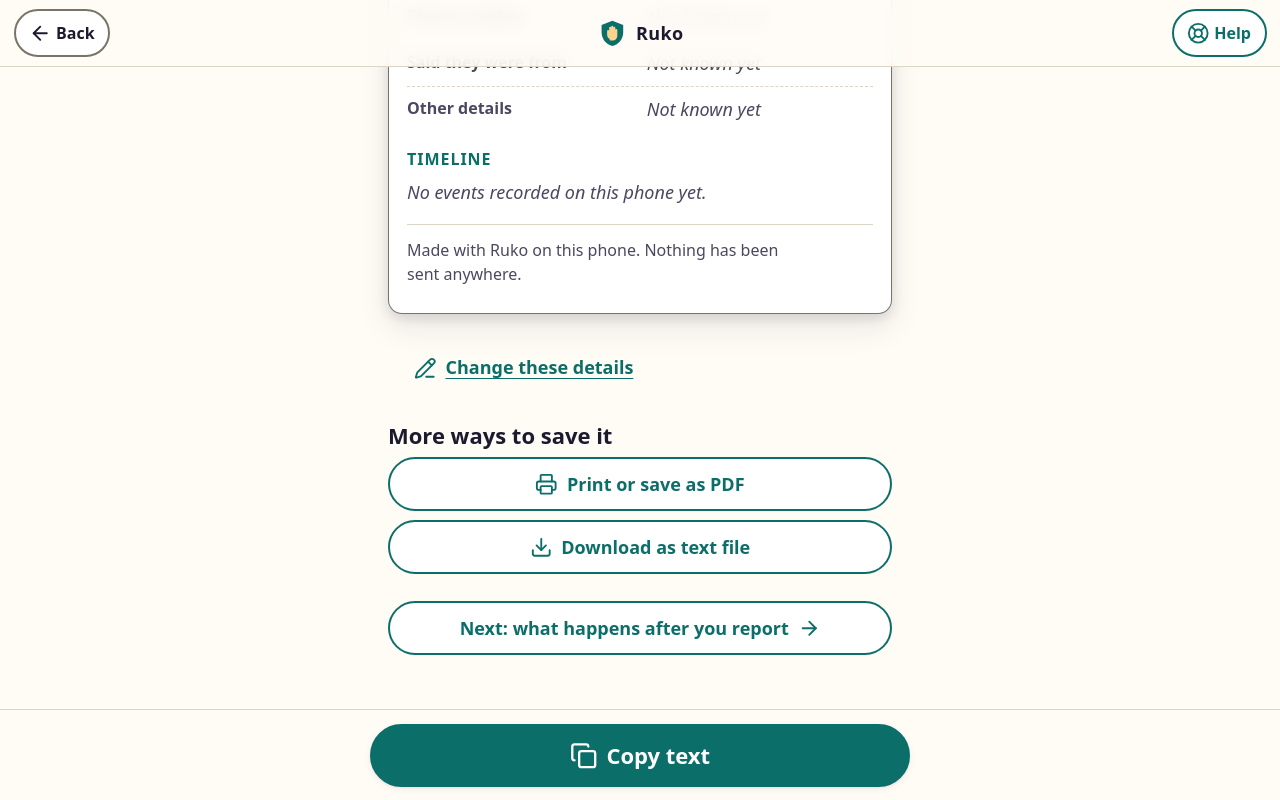
/golden-hour/pack — complaint pack › prints and downloads the pack
(page scrolled)
Step 1. Click the button "Print or save as PDF" → click(640, 484), box [388,457,892,511]
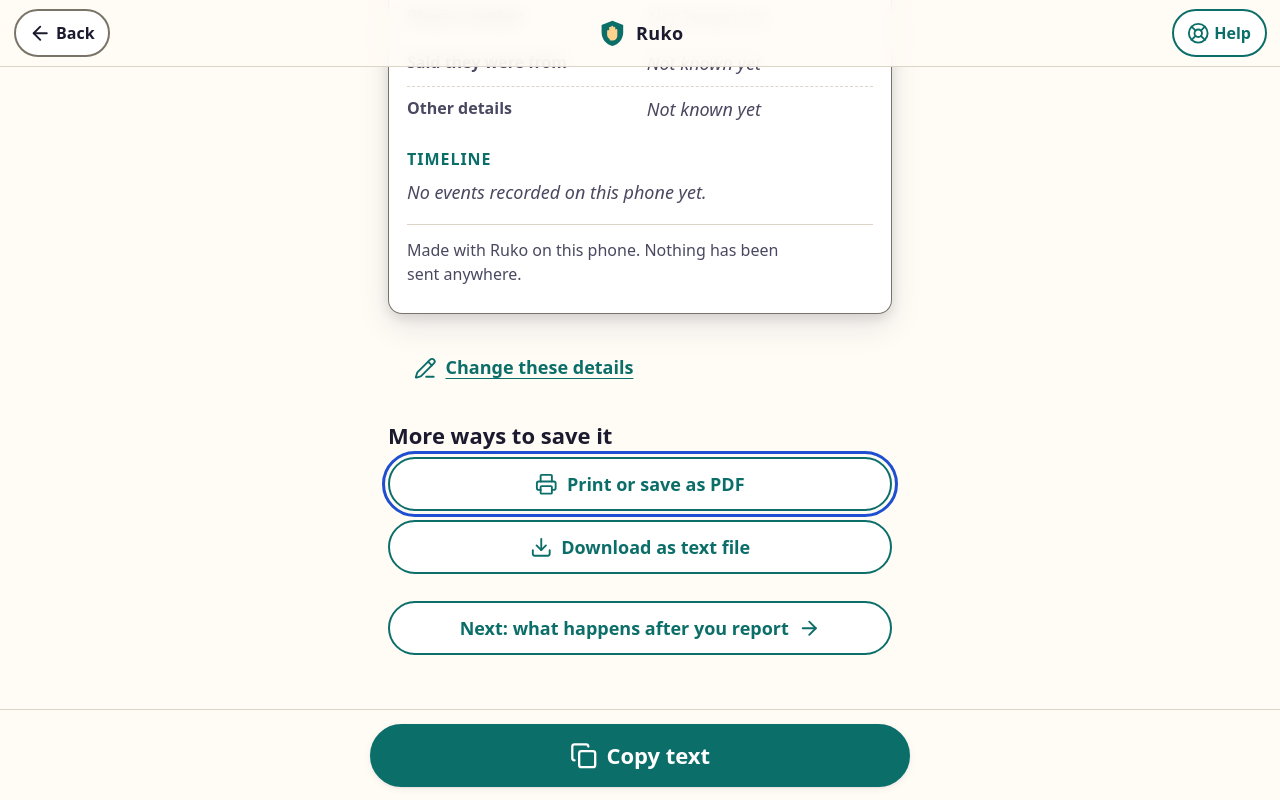
Step 2. Click the button "Download as text file" → click(640, 547), box [388,520,892,574]
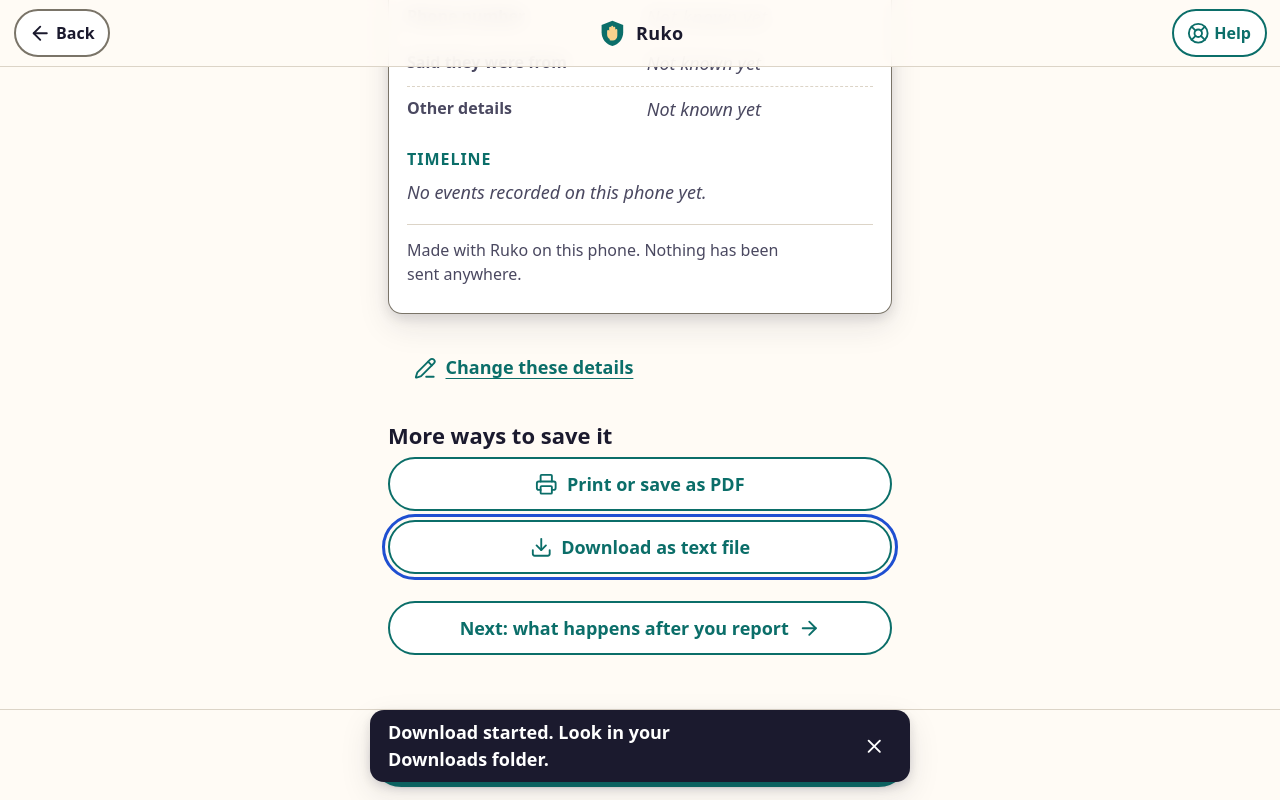
Now the text "Download started. Look in your Downloads folder." is shown, box [388,720,670,771]
